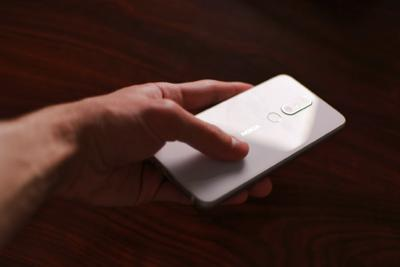cell-phone: (147, 67, 350, 211)
